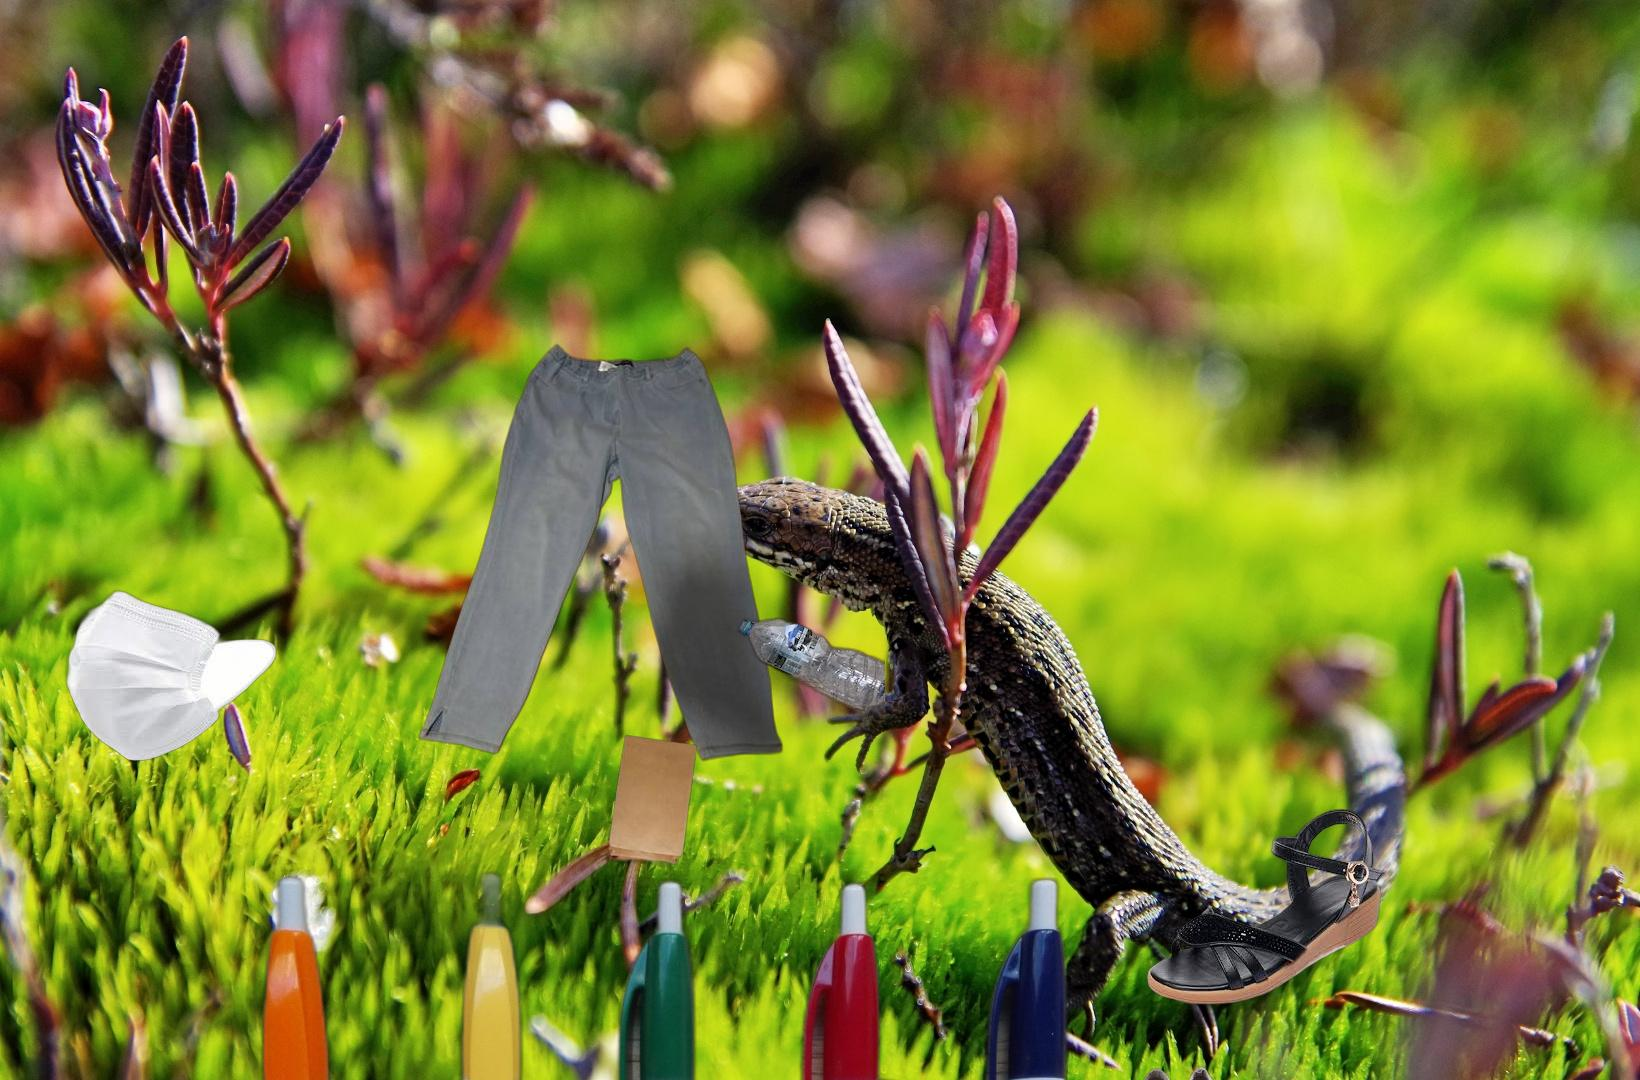clothes: (415, 340, 784, 765)
metal-cans: (842, 1073, 958, 1080)
paper-bag: (604, 733, 700, 869)
penholder: (253, 864, 1076, 1080)
plastic-bottles: (733, 614, 884, 964)
shoes: (1145, 808, 1387, 1006), (1106, 1064, 1254, 1080)
trash: (63, 587, 280, 764)
